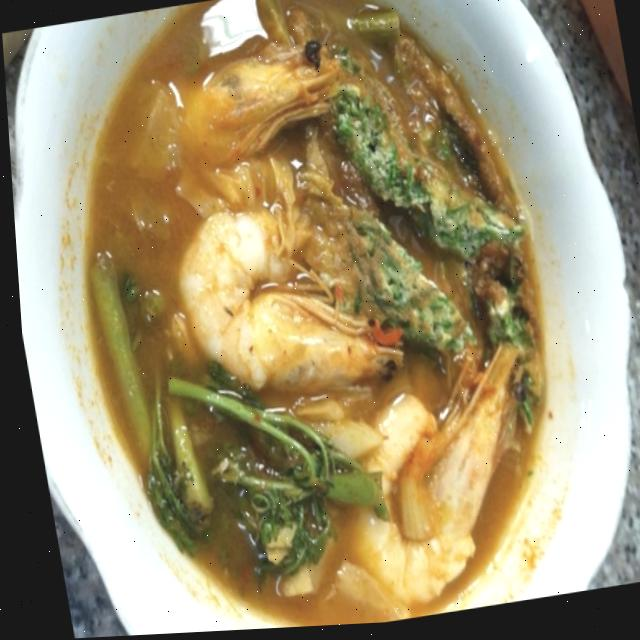汤锅炖物: (23, 0, 624, 639)
